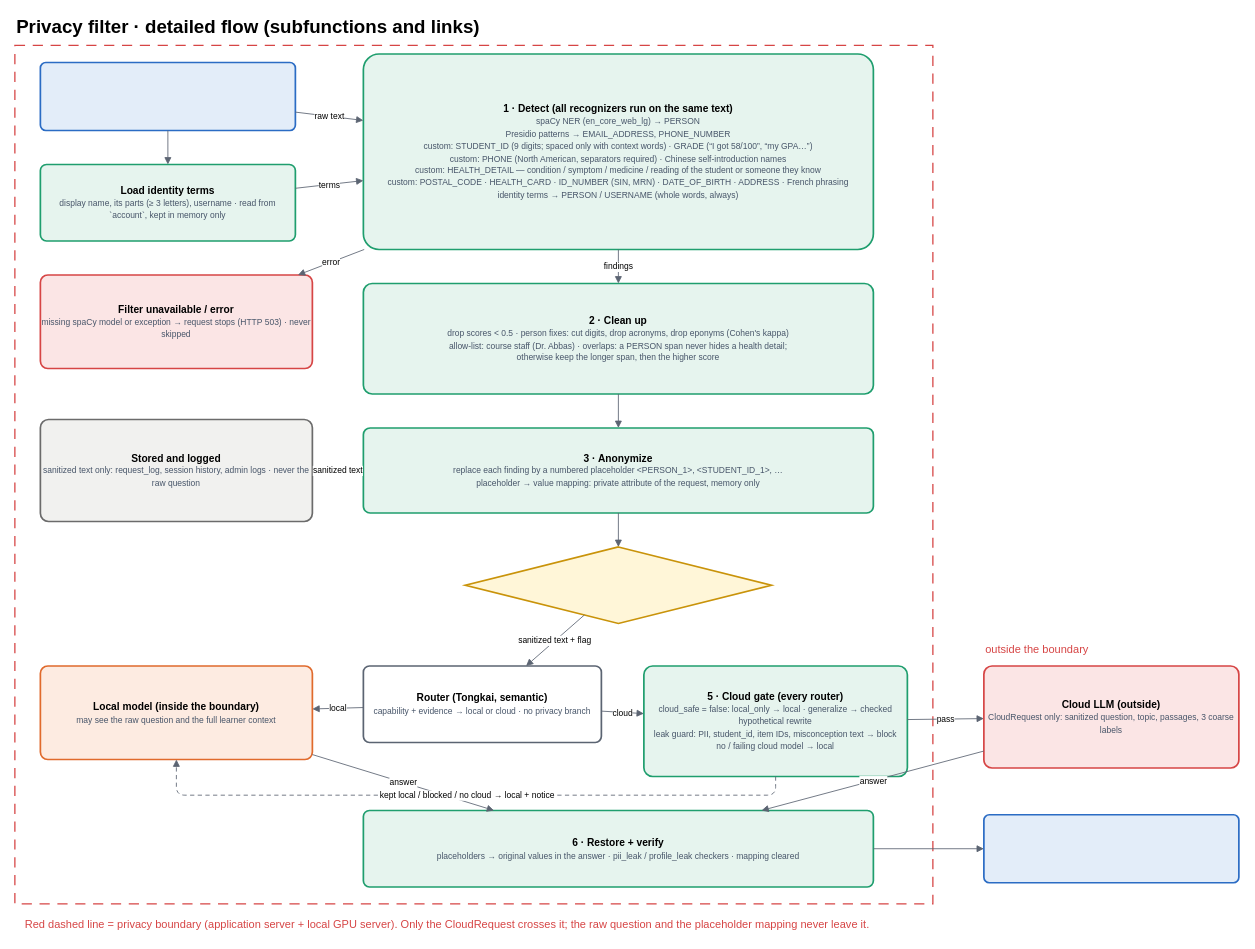
Some shapes in this 1255 by 949 pixel diagram are drawn without their labels. Here are the shapes that lost their labels. From the top down, the centre of each, then its label:
(167,96): Student question (raw text) POST /api/v1/ask · student_id from the login session
(618,585): 4 · Personal health detail? HEALTH_DETAIL found → cloud_safe = false
(1111,848): Answer to the student with sources and a check question
